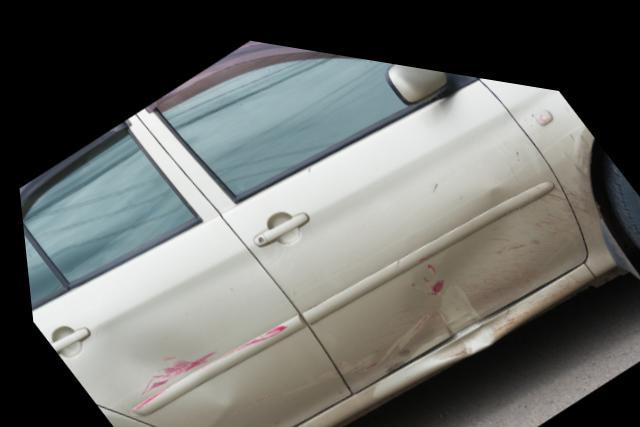dent: (395, 171, 532, 318), (117, 323, 222, 398), (429, 304, 489, 345)
scratch: (331, 305, 413, 363), (213, 315, 281, 352)
